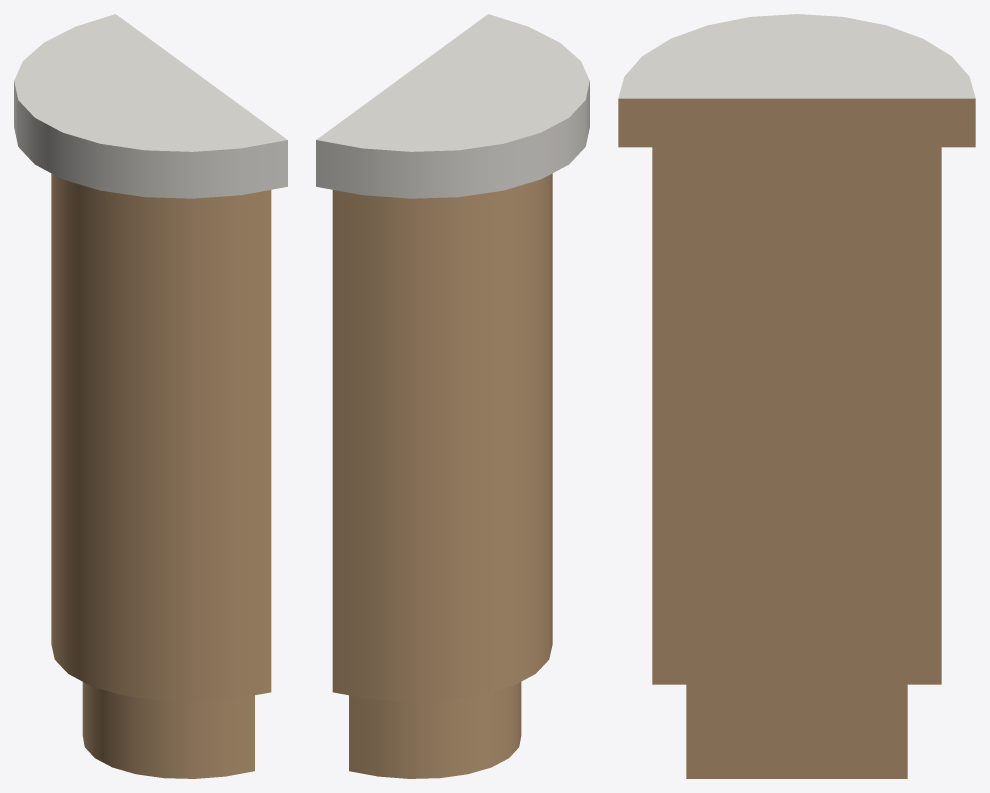
The model's file is kitchen-bar-end.glb.
The picture shows the model from 3 angles, left to right: view 1: azimuth 30°, elevation 25°; view 2: azimuth 150°, elevation 25°; view 3: azimuth 270°, elevation 25°; orthographic projection. The views are drawn at different scales.
Visible parts, largest first — view 1: kitchen-bar-end; view 2: kitchen-bar-end; view 3: kitchen-bar-end.
Boxes of the visible parts, x1=… form: kitchen-bar-end: x1=14, y1=14, x2=287, y2=778; kitchen-bar-end: x1=316, y1=14, x2=589, y2=778; kitchen-bar-end: x1=618, y1=14, x2=975, y2=778.
Bounding box in the file's own units: 0.28 × 1.05 × 0.5.
